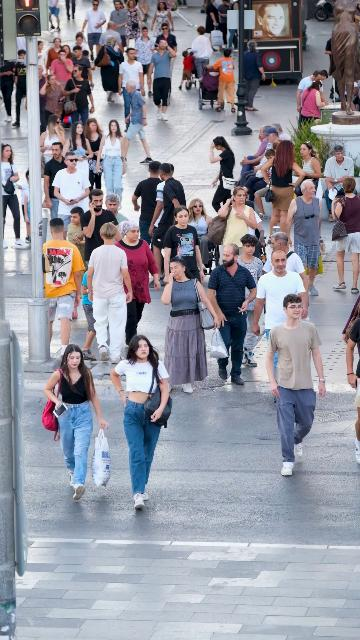person: (265, 293, 326, 476), (109, 334, 172, 509), (42, 344, 108, 501), (160, 257, 224, 394), (206, 243, 258, 385), (87, 222, 133, 364), (41, 217, 85, 353), (115, 220, 161, 345), (252, 251, 310, 340), (284, 179, 323, 296), (261, 139, 306, 237), (235, 234, 266, 367), (147, 162, 186, 264), (217, 186, 261, 271), (162, 205, 205, 285), (331, 178, 360, 295), (80, 188, 122, 267), (0, 143, 29, 250), (260, 232, 310, 294), (131, 161, 166, 249), (96, 119, 127, 214), (52, 152, 91, 223), (237, 127, 280, 191), (321, 145, 356, 222), (121, 81, 153, 164), (43, 142, 77, 220), (343, 312, 360, 462), (147, 38, 177, 121), (117, 47, 145, 132), (232, 125, 269, 185), (209, 135, 236, 213), (64, 121, 94, 190), (206, 48, 236, 113), (65, 64, 95, 129), (296, 70, 329, 127), (94, 36, 122, 102), (188, 198, 213, 270), (79, 0, 107, 61), (242, 40, 265, 112), (253, 148, 276, 218), (294, 141, 322, 197), (134, 26, 156, 97), (84, 118, 105, 190), (81, 267, 97, 361), (39, 73, 68, 124), (41, 114, 69, 165), (191, 26, 213, 85), (94, 21, 124, 63), (12, 50, 28, 128), (67, 207, 86, 267), (324, 37, 341, 103), (301, 81, 327, 123), (109, 0, 130, 51), (123, 0, 144, 48), (203, 0, 222, 52), (36, 65, 50, 134), (342, 294, 360, 346), (51, 50, 74, 90), (150, 1, 174, 39), (20, 170, 32, 245), (218, 0, 236, 47), (103, 193, 129, 225), (155, 23, 177, 58), (199, 57, 220, 91), (45, 38, 65, 73), (179, 48, 195, 91), (226, 3, 239, 51), (270, 123, 293, 148), (17, 37, 38, 63), (37, 41, 49, 78), (140, 0, 150, 22), (60, 44, 72, 59)
